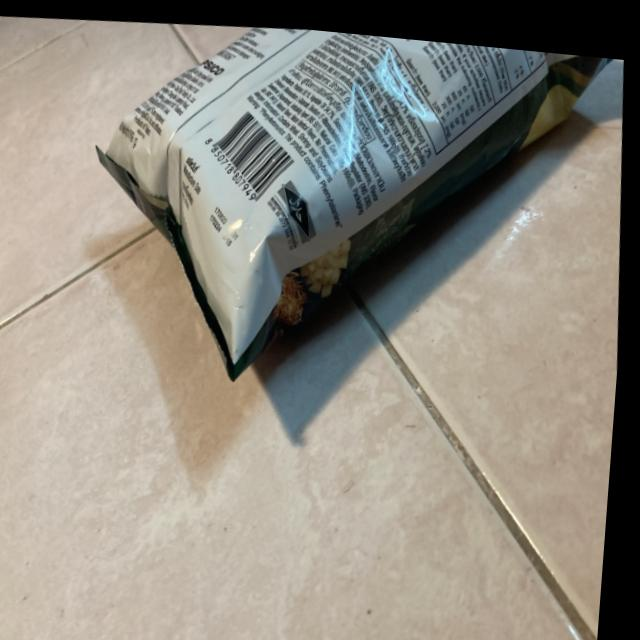Laygreen: (69, 7, 640, 408)
